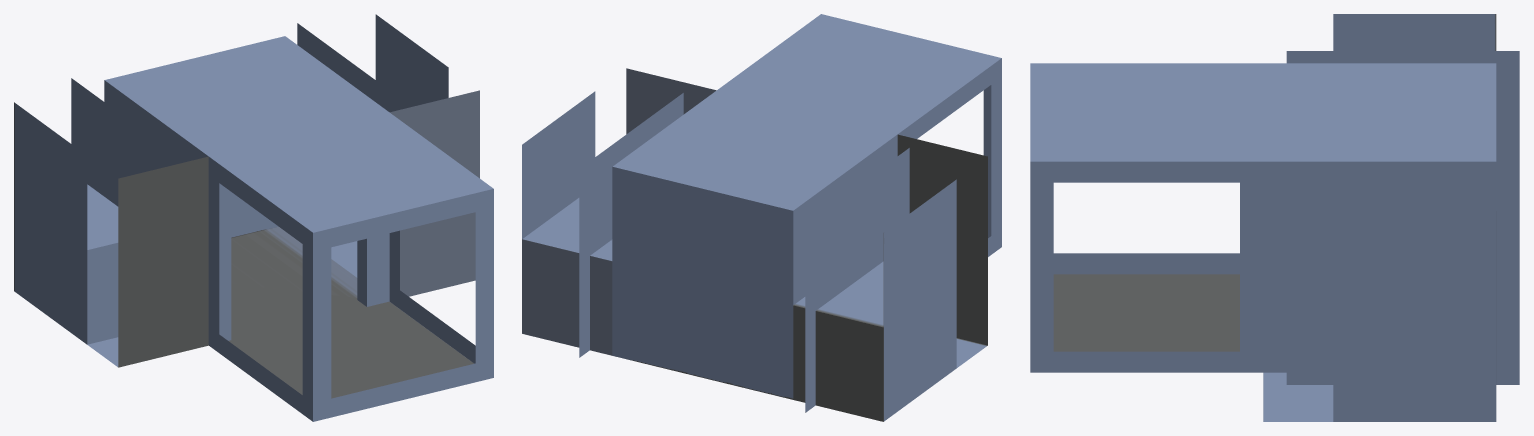
The model's file is ship.glb.
3 views of the same model, side by side, from view 1: azimuth 30°, elevation 25°; view 2: azimuth 150°, elevation 25°; view 3: azimuth 270°, elevation 25° (orthographic). The views are drawn at different scales.
Visible parts, largest first — view 1: Cube; view 2: Cube; view 3: Cube.
Boxes of the visible parts, bbox=[...] form: Cube: bbox=[14, 14, 493, 421]; Cube: bbox=[522, 14, 1001, 421]; Cube: bbox=[1030, 14, 1519, 421].
Size of what is drawn, in the model's own units: 4 by 2 by 4.2.
Materials: 1 (1 with a texture image).
